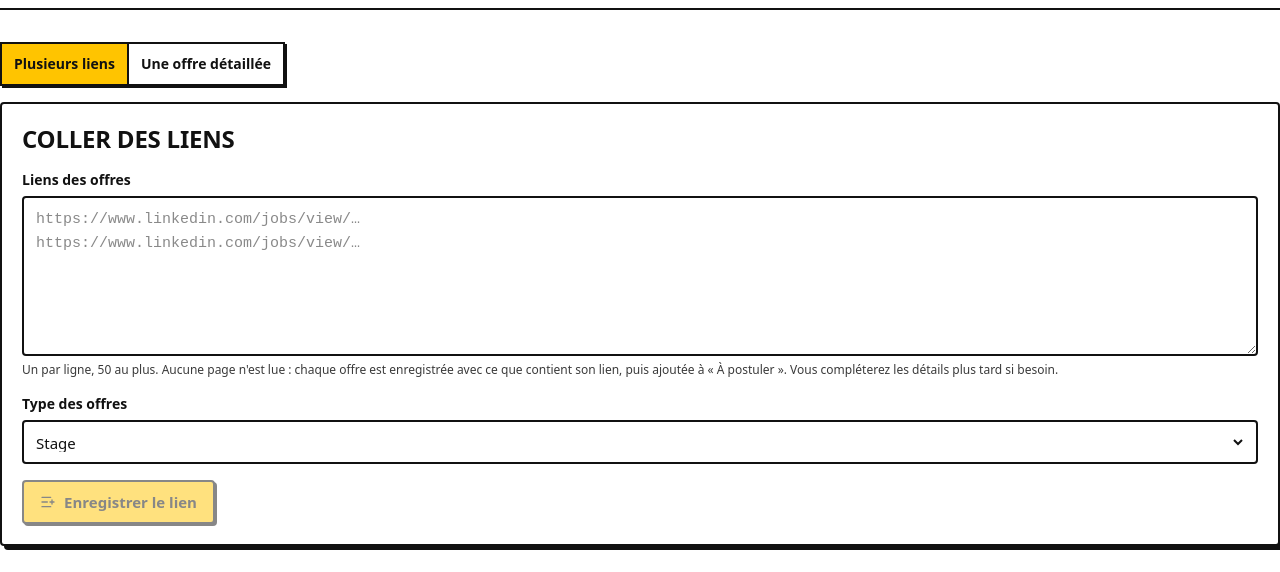
offre détaillée avec texte collé › renvoie vers l'offre déjà enregistrée
Click the radio button labelled "Une offre détaillée". click: click(206, 64)
box: 129,44 -> 283,84
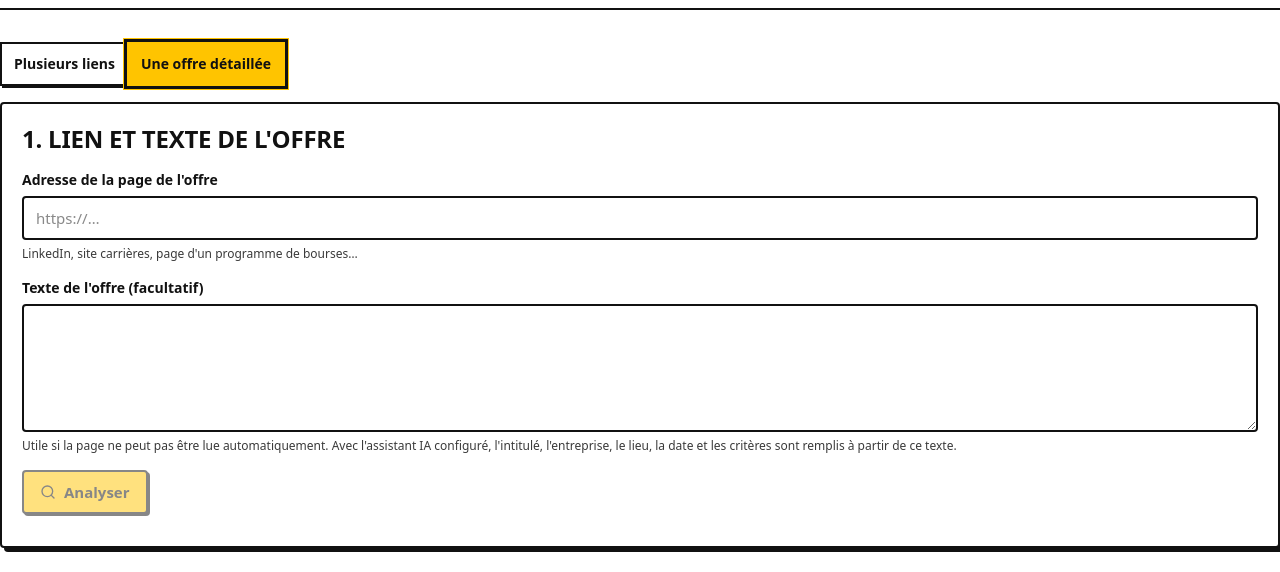
Type "https://www.linkedin.com/jobs/view/4012345678" into the field labelled "Adresse de la page de l'offre". click: (640, 218)
box: 22,196 -> 1258,240
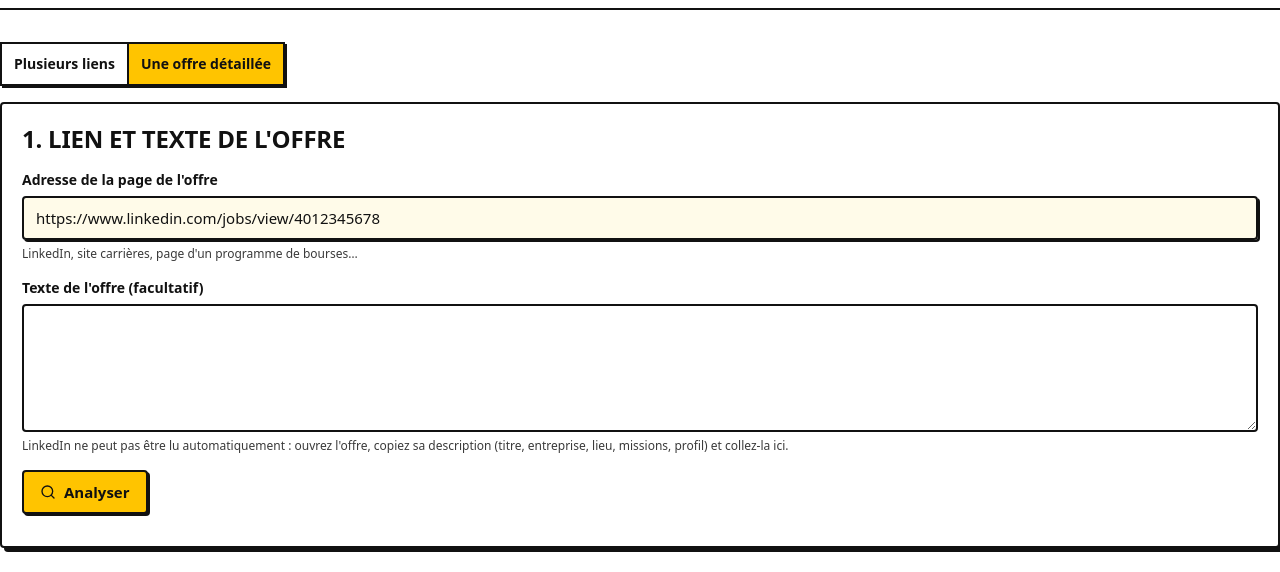
Click the button "Analyser". click: click(85, 492)
box: 22,470 -> 148,514
(page scrolled)
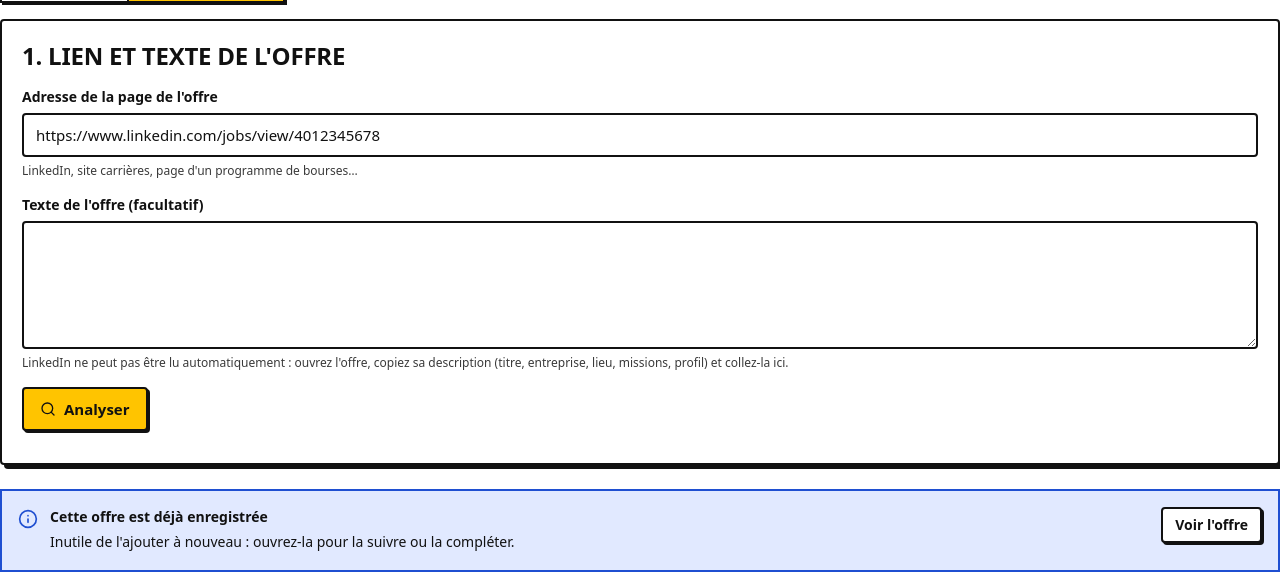
Expected: the text "Cette offre est déjà enregistrée" is shown, 50,507 -> 268,526
